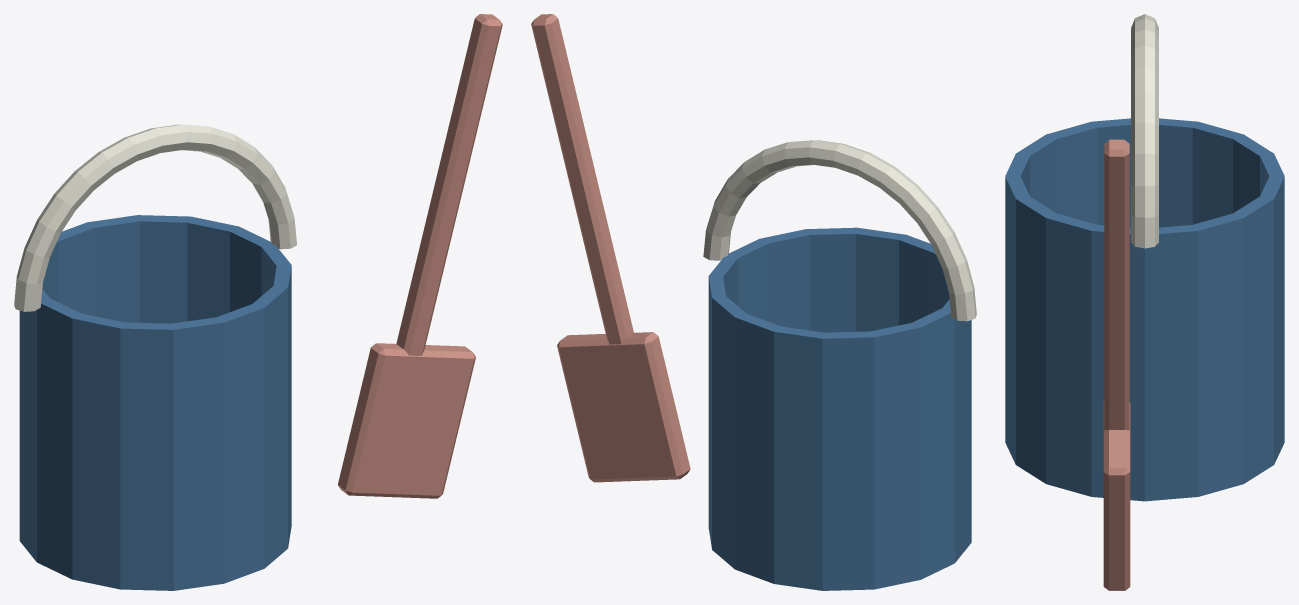
The model's file is sand_bucket_and_spade.glb.
3 views of the same model, side by side, from view 1: azimuth 30°, elevation 25°; view 2: azimuth 150°, elevation 25°; view 3: azimuth 270°, elevation 25° (orthographic). The views are drawn at different scales.
Visible parts, largest first — view 1: bucket_hollow_wall, spade_blade, bucket_handle, spade_shaft, bucket_base; view 2: bucket_hollow_wall, spade_blade, bucket_handle, spade_shaft, bucket_base; view 3: bucket_hollow_wall, spade_shaft, bucket_handle, bucket_base, spade_blade.
Boxes of the visible parts, x1,y1,x2,y2 form: bucket_hollow_wall: (19, 215, 291, 568); spade_blade: (338, 343, 475, 498); bucket_handle: (14, 124, 296, 311); spade_shaft: (396, 14, 502, 355); bucket_base: (19, 505, 291, 590); bucket_hollow_wall: (708, 227, 971, 569); spade_blade: (557, 332, 690, 482); bucket_handle: (703, 140, 976, 321); spade_shaft: (531, 14, 633, 344); bucket_base: (708, 507, 971, 590); bucket_hollow_wall: (1005, 118, 1284, 478); spade_shaft: (1104, 139, 1129, 430); bucket_handle: (1131, 14, 1158, 248); bucket_base: (1005, 420, 1284, 501); spade_blade: (1103, 402, 1130, 590).
Size of the model in its own units: 0.3956 by 0.3758 by 0.2.
